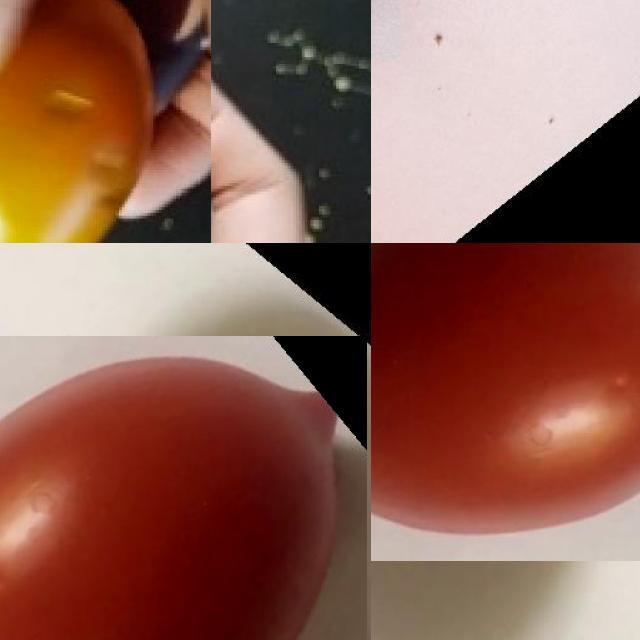Fresh Tomato: (0, 335, 367, 640), (371, 243, 640, 561)
Rotten Tomato: (0, 0, 210, 243)
